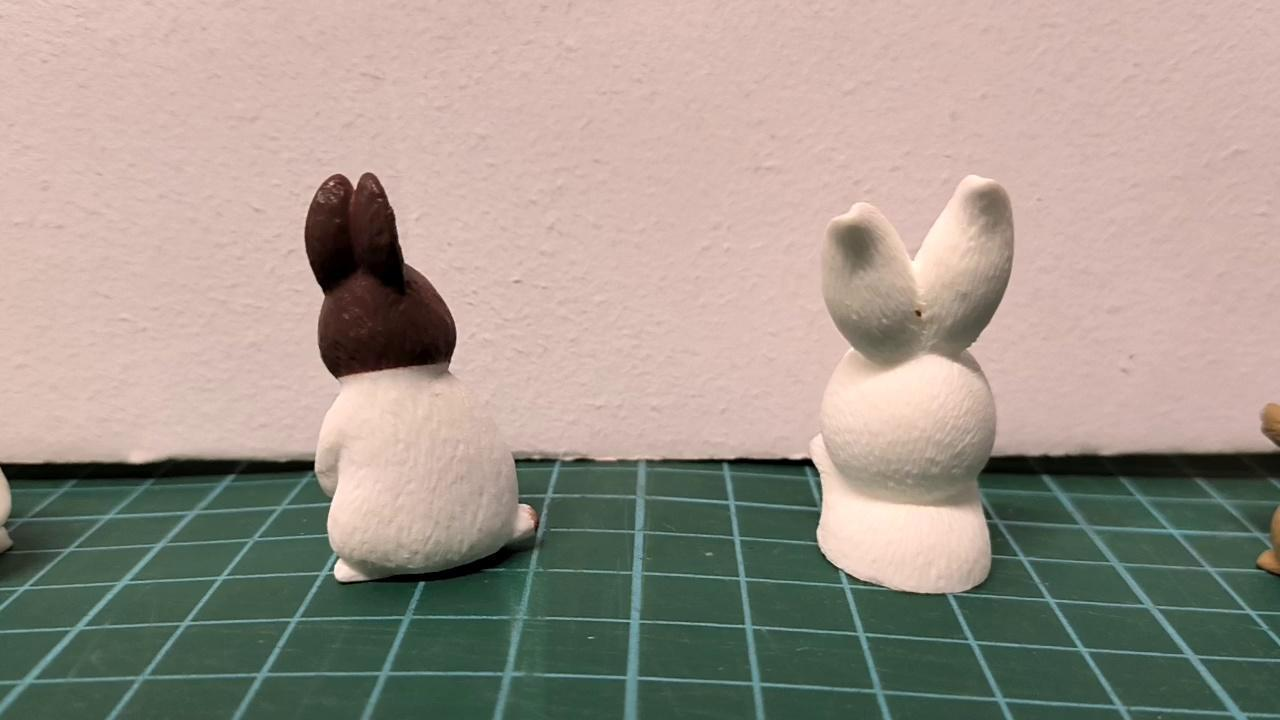pet: (304, 170, 538, 583), (807, 174, 1014, 594)
